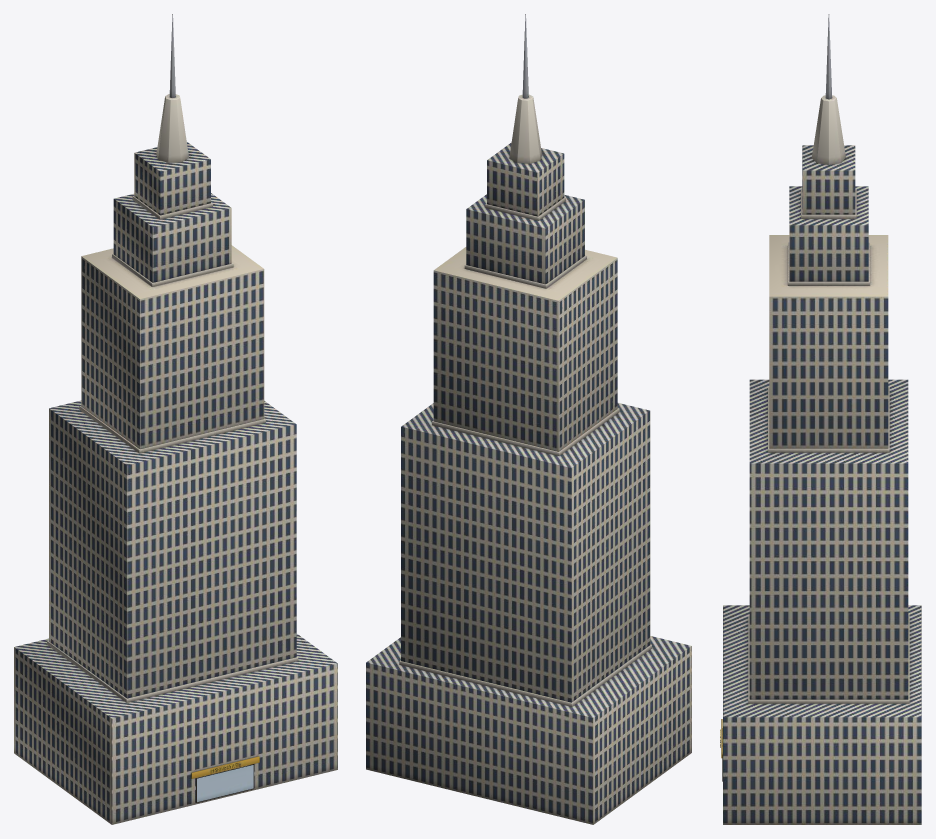
The model's file is empire.glb.
The picture shows the model from 3 angles, left to right: view 1: azimuth 30°, elevation 25°; view 2: azimuth 150°, elevation 25°; view 3: azimuth 270°, elevation 25°; orthographic projection.
Parts seen in each view (by area): view 1: empire; view 2: empire; view 3: empire.
Part boxes in pixels (box(x1,y1,x2,y2)): empire: box(14, 14, 337, 824); empire: box(366, 14, 691, 824); empire: box(720, 14, 921, 824).
Bounding box in the file's own units: 40 × 126 × 30.4.
Materials: 1 (1 with a texture image).
